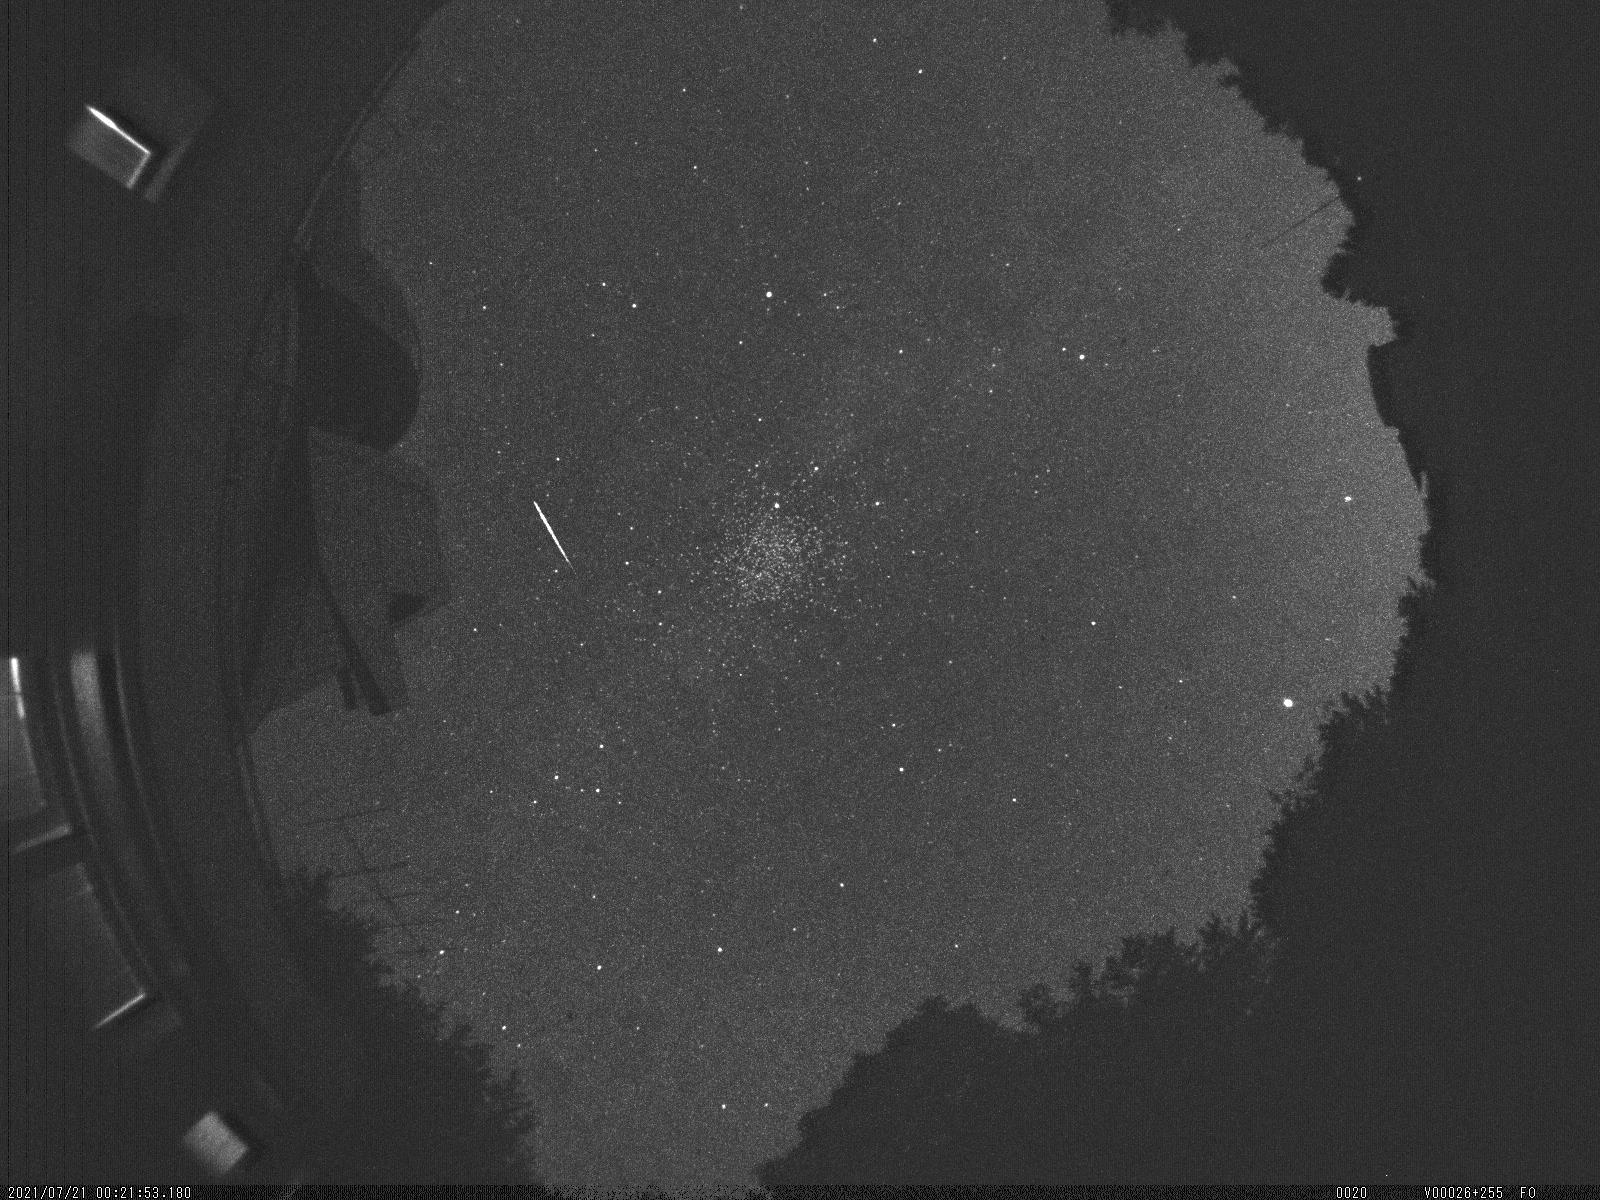Meteor: (532, 490, 585, 578)
